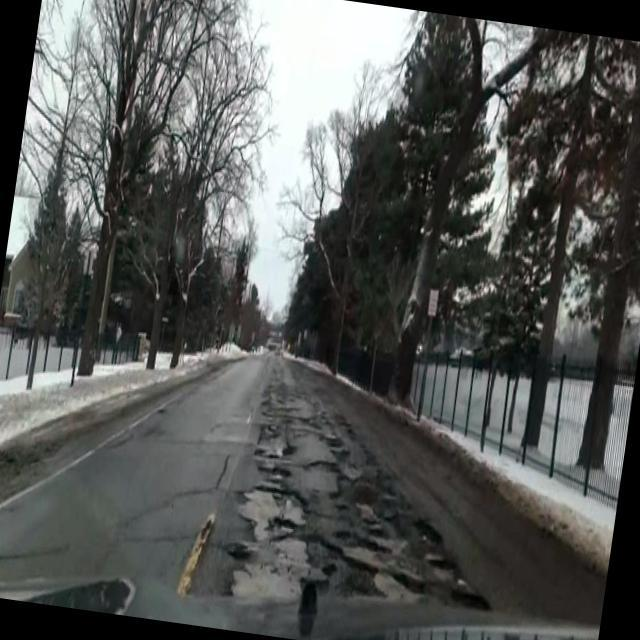Pothole: (232, 479, 314, 611), (27, 556, 142, 618), (392, 568, 481, 622), (329, 524, 393, 559), (357, 478, 407, 514), (305, 454, 349, 482), (256, 457, 293, 479)
